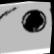correct: (17, 4, 52, 36)
